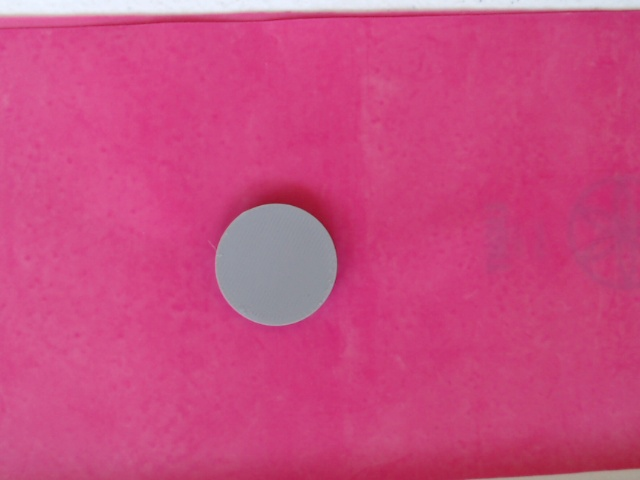NonDefective: (212, 201, 342, 329)
